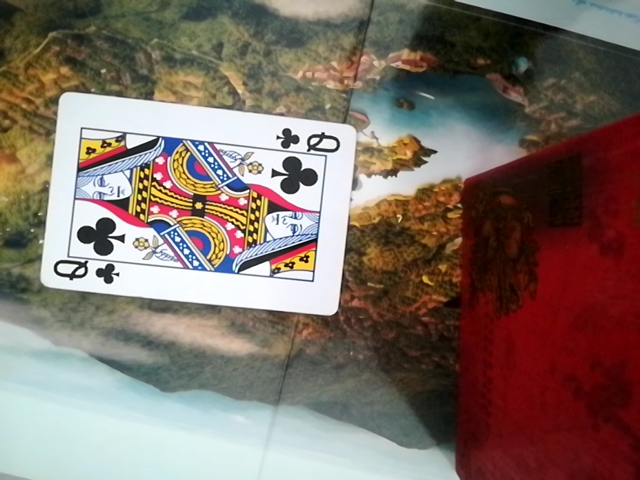mh q: (34, 88, 356, 317)
